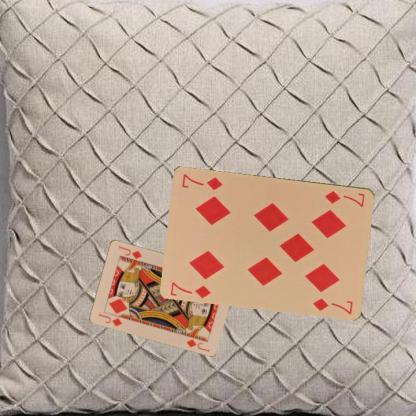7d: (167, 279, 212, 299), (323, 188, 366, 208)
Jd: (96, 310, 124, 328)
